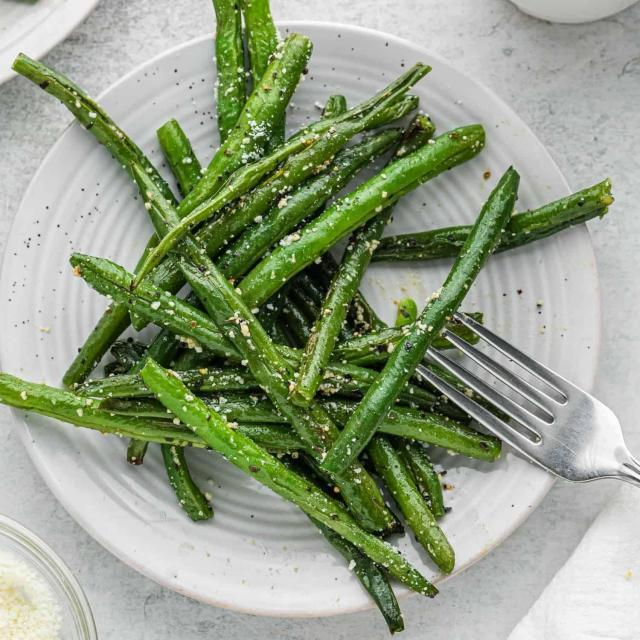Beans: (0, 0, 623, 639)
